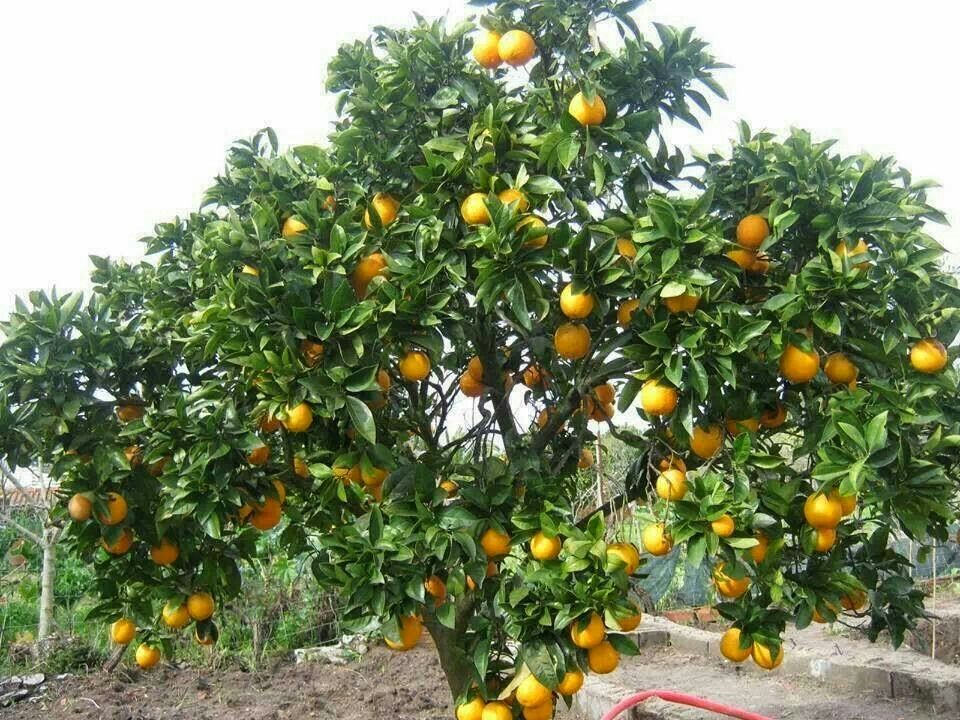portakal: (897, 317, 960, 401), (765, 327, 825, 403), (378, 331, 449, 387), (786, 463, 844, 530), (354, 169, 406, 242), (728, 196, 796, 248), (566, 80, 622, 143), (111, 382, 167, 442), (633, 364, 687, 426), (550, 316, 607, 373), (188, 578, 238, 642), (273, 205, 322, 269), (603, 596, 659, 648), (375, 614, 430, 665), (633, 511, 686, 563), (453, 26, 503, 80), (712, 607, 752, 672), (475, 519, 525, 566), (282, 388, 321, 448), (552, 270, 606, 312), (648, 462, 703, 503), (504, 22, 544, 76), (153, 525, 196, 574), (126, 645, 177, 685), (464, 173, 489, 252), (663, 276, 705, 321), (92, 606, 142, 643), (99, 481, 140, 526)
